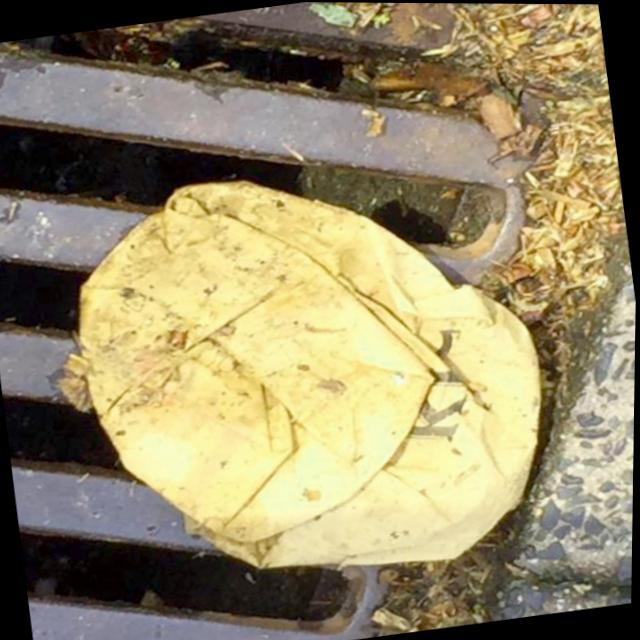Paper: (45, 135, 573, 613)
